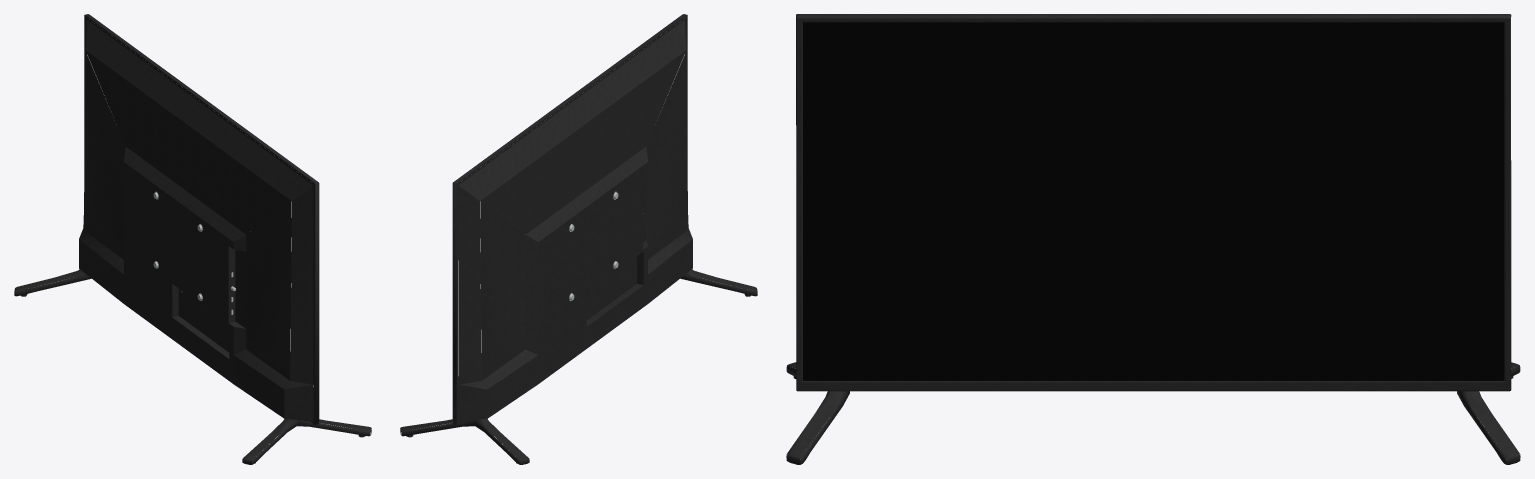
The picture shows the model from 3 angles, left to right: view 1: azimuth 30°, elevation 25°; view 2: azimuth 150°, elevation 25°; view 3: azimuth 270°, elevation 25°; orthographic projection. The views are drawn at different scales.
Visible parts, largest first — view 1: TV_TV_0; view 2: TV_TV_0; view 3: TV_TV_0.
Part boxes in pixels (left/top/right/bottom): TV_TV_0: left=14, top=14, right=371, bottom=464; TV_TV_0: left=400, top=14, right=757, bottom=464; TV_TV_0: left=786, top=14, right=1520, bottom=464.
Bounding box in the file's own units: 0.000221 × 0.000432 × 0.0007.
Materials: 1 (1 with a texture image).
